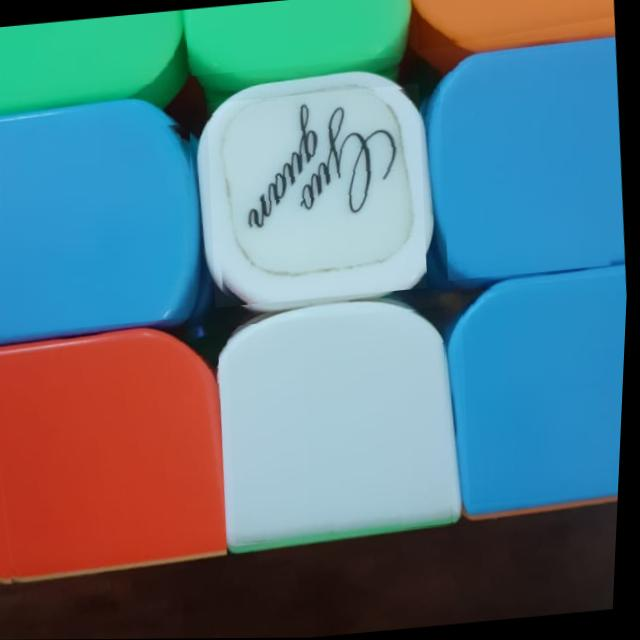Blue: (432, 48, 635, 281), (0, 113, 207, 336), (455, 274, 630, 505)
Green: (182, 0, 405, 76), (0, 11, 178, 100)
Orange: (412, 0, 616, 50)
Red: (0, 331, 241, 586)
White: (222, 307, 466, 546), (200, 84, 437, 308)
